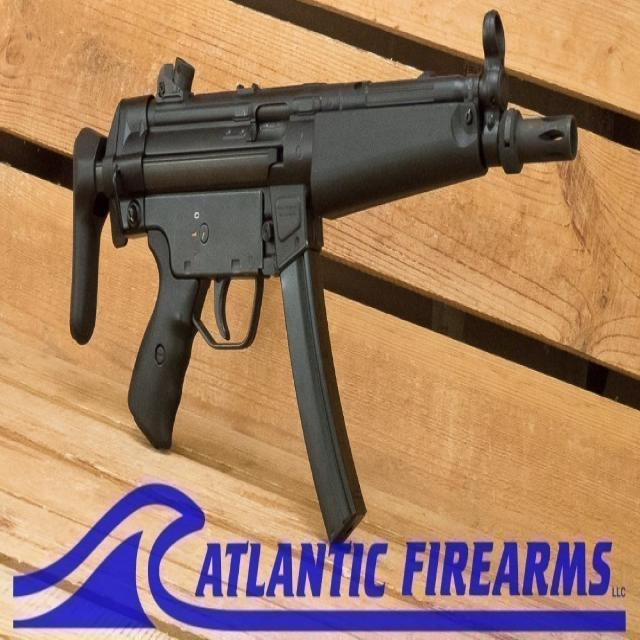SMG: (68, 12, 581, 546)
